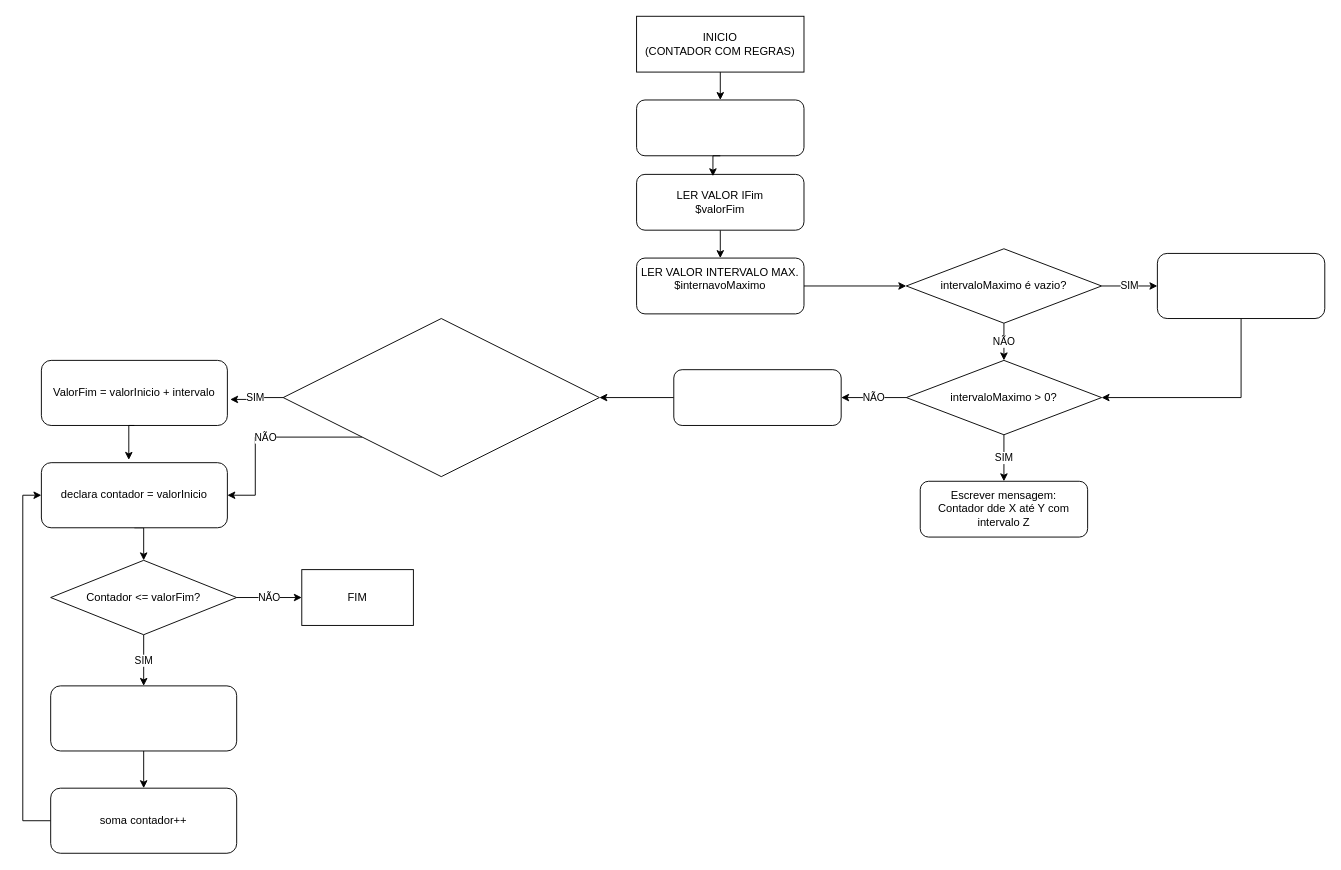
This 1341x870 diagram has some shape labels left out. The centre of each missing label's shape, as x and y in pixels:
escreve contador: the point at 143,718
Escrever mensagem contador de X até Y sem intervalo: the point at 757,397
intervaloMaximo > 0 ? && (VAlorFim - valorInicio) > intervaloMaximo?: the point at 440,397
intervaloMaximo é 0: the point at 1240,285
LER VALOR INICIO $valorInicio: the point at 720,127
